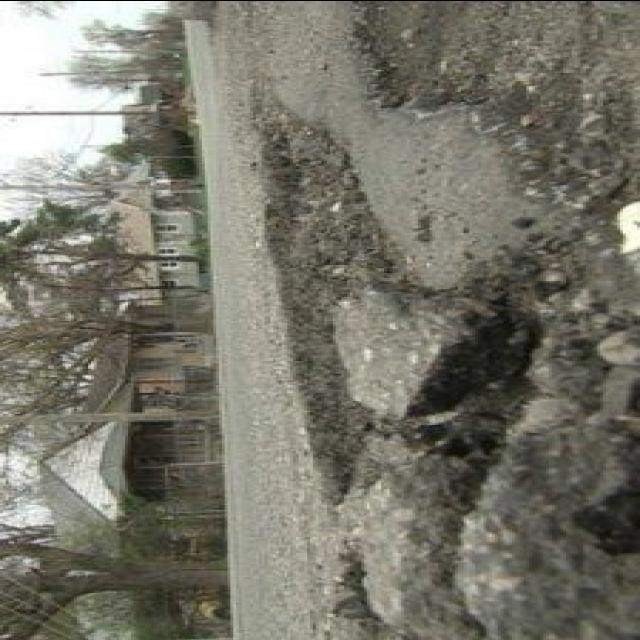lubang: (239, 283, 640, 640), (242, 56, 406, 506), (342, 0, 640, 242)
